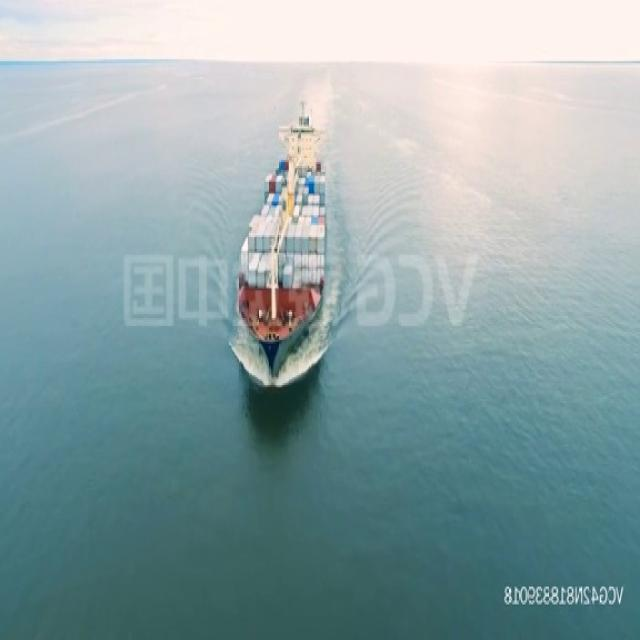cargoship: (238, 96, 331, 367)
